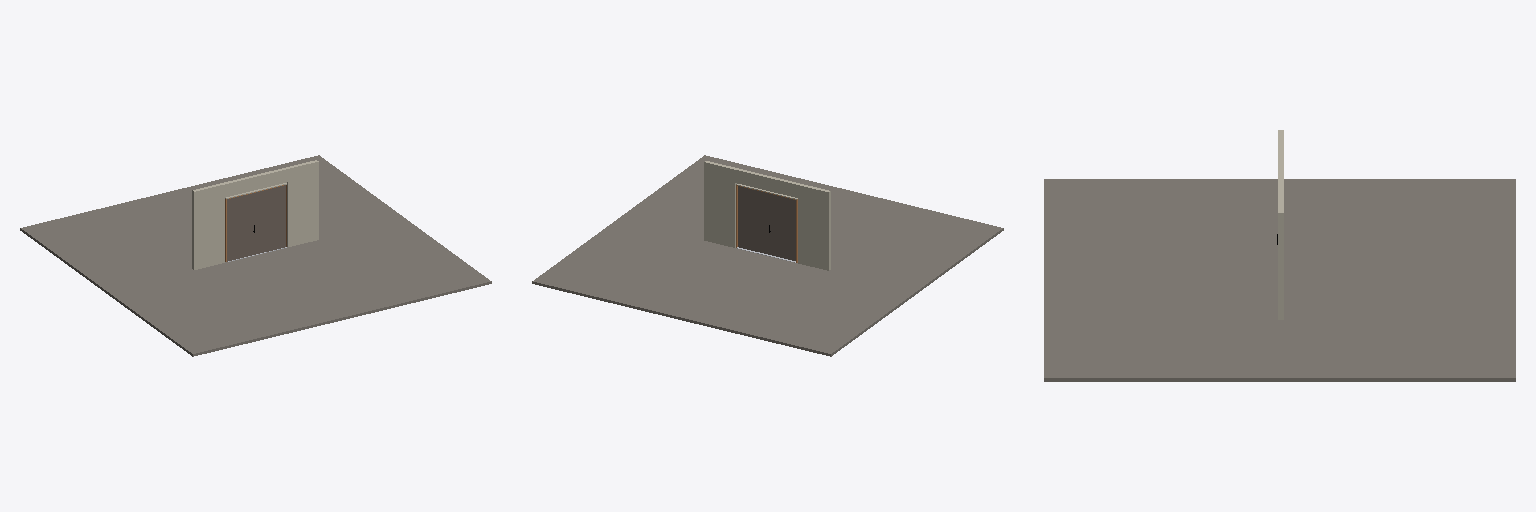
The robot description file, URDF, robot "db0395_swing_double_minimal":
<?xml version="1.0" ?>
<robot xmlns:doorbench="https://github.com/adamraudonis/DoorBench/schema/urdf-ext" name="db0395_swing_double_minimal">
  <link name="world_env">
    <visual name="floor_vis">
      <origin xyz="0 0 -0.05" rpy="0 0 0"/>
      <geometry>
        <box size="12 12 0.1"/>
      </geometry>
      <material name="mat_floor"/>
    </visual>
    <collision name="floor_col">
      <origin xyz="0 0 -0.05" rpy="0 0 0"/>
      <geometry>
        <box size="12 12 0.1"/>
      </geometry>
    </collision>
    <visual name="wall_left_vis">
      <origin xyz="-1.88225 0.0305 1.5065" rpy="0 0 0"/>
      <geometry>
        <box size="1.2355 0.145 3.013"/>
      </geometry>
      <material name="mat_wall"/>
    </visual>
    <collision name="wall_left_col">
      <origin xyz="-1.88225 0.0305 1.5065" rpy="0 0 0"/>
      <geometry>
        <box size="1.2355 0.145 3.013"/>
      </geometry>
    </collision>
    <visual name="wall_right_vis">
      <origin xyz="1.88225 0.0305 1.5065" rpy="0 0 0"/>
      <geometry>
        <box size="1.2355 0.145 3.013"/>
      </geometry>
      <material name="mat_wall"/>
    </visual>
    <collision name="wall_right_col">
      <origin xyz="1.88225 0.0305 1.5065" rpy="0 0 0"/>
      <geometry>
        <box size="1.2355 0.145 3.013"/>
      </geometry>
    </collision>
    <visual name="wall_header_vis">
      <origin xyz="0 0.0305 2.758" rpy="0 0 0"/>
      <geometry>
        <box size="2.529 0.145 0.51"/>
      </geometry>
      <material name="mat_wall"/>
    </visual>
    <collision name="wall_header_col">
      <origin xyz="0 0.0305 2.758" rpy="0 0 0"/>
      <geometry>
        <box size="2.529 0.145 0.51"/>
      </geometry>
    </collision>
    <visual name="jamb_l_vis">
      <origin xyz="-1.214 0.0305 1.2065" rpy="0 0 0"/>
      <geometry>
        <box size="0.019 0.145 2.413"/>
      </geometry>
      <material name="mat_frame"/>
    </visual>
    <collision name="jamb_l_col">
      <origin xyz="-1.214 0.0305 1.2065" rpy="0 0 0"/>
      <geometry>
        <box size="0.019 0.145 2.413"/>
      </geometry>
    </collision>
    <visual name="jamb_r_vis">
      <origin xyz="1.214 0.0305 1.2065" rpy="0 0 0"/>
      <geometry>
        <box size="0.019 0.145 2.413"/>
      </geometry>
      <material name="mat_frame"/>
    </visual>
    <collision name="jamb_r_col">
      <origin xyz="1.214 0.0305 1.2065" rpy="0 0 0"/>
      <geometry>
        <box size="0.019 0.145 2.413"/>
      </geometry>
    </collision>
    <visual name="jamb_head_vis">
      <origin xyz="0 0.0305 2.4225" rpy="0 0 0"/>
      <geometry>
        <box size="2.447 0.145 0.019"/>
      </geometry>
      <material name="mat_frame"/>
    </visual>
    <collision name="jamb_head_col">
      <origin xyz="0 0.0305 2.4225" rpy="0 0 0"/>
      <geometry>
        <box size="2.447 0.145 0.019"/>
      </geometry>
    </collision>
    <visual name="head_stud_vis">
      <origin xyz="0 0.0305 2.447" rpy="0 0 0"/>
      <geometry>
        <box size="2.447 0.145 0.03"/>
      </geometry>
      <material name="mat_wall"/>
    </visual>
    <collision name="head_stud_col">
      <origin xyz="0 0.0305 2.447" rpy="0 0 0"/>
      <geometry>
        <box size="2.447 0.145 0.03"/>
      </geometry>
    </collision>
    <visual name="threshold_vis">
      <origin xyz="0 0.0305 0.0065" rpy="0 0 0"/>
      <geometry>
        <box size="2.447 0.145 0.013"/>
      </geometry>
      <material name="mat_threshold"/>
    </visual>
    <collision name="threshold_col">
      <origin xyz="0 0.0305 0.0065" rpy="0 0 0"/>
      <geometry>
        <box size="2.447 0.145 0.013"/>
      </geometry>
    </collision>
  </link>
  <link name="leaf_a">
    <inertial>
      <origin xyz="0.607914 0.029 1.210394" rpy="0 0 0"/>
      <mass value="62.748227"/>
      <inertia ixx="29.490788967" ixy="0" ixz="0.079649009" iyy="37.128494655" iyz="0" izz="7.665001906"/>
    </inertial>
    <visual name="leaf_a_slab_vis">
      <origin xyz="0.6 0.029 1.213" rpy="0 0 0"/>
      <geometry>
        <box size="1.2 0.044 2.392"/>
      </geometry>
      <material name="mat_leaf_a"/>
    </visual>
    <collision name="leaf_a_slab_col">
      <origin xyz="0.6 0.029 1.213" rpy="0 0 0"/>
      <geometry>
        <box size="1.2 0.044 2.392"/>
      </geometry>
    </collision>
    <visual name="leaf_a_pull_n_vis">
      <origin xyz="1.095 0.007 1.05" rpy="1.570796 0 0"/>
      <geometry>
        <mesh filename="../../hardware/pull_2b47e55ff8.obj"/>
      </geometry>
      <material name="mat_op_black_matte_metal"/>
    </visual>
    <collision name="leaf_a_pull_col_n_col">
      <origin xyz="1.095 -0.038 1.05" rpy="0 0 0"/>
      <geometry>
        <cylinder radius="0.006" length="0.26"/>
      </geometry>
    </collision>
    <visual name="leaf_a_pull_p_vis">
      <origin xyz="1.095 0.051 1.05" rpy="-1.570796 0 0"/>
      <geometry>
        <mesh filename="../../hardware/pull_2b47e55ff8.obj"/>
      </geometry>
      <material name="mat_op_black_matte_metal"/>
    </visual>
    <collision name="leaf_a_pull_col_p_col">
      <origin xyz="1.095 0.096 1.05" rpy="0 0 0"/>
      <geometry>
        <cylinder radius="0.006" length="0.26"/>
      </geometry>
    </collision>
  </link>
  <link name="leaf_b">
    <inertial>
      <origin xyz="-0.6 0.029 1.213" rpy="0 0 0"/>
      <mass value="62.602973"/>
      <inertia ixx="29.859531248" ixy="0" ixz="0" iyy="37.361788034" iyz="0" izz="7.522456679"/>
    </inertial>
    <visual name="leaf_b_slab_vis">
      <origin xyz="-0.6 0.029 1.213" rpy="0 0 0"/>
      <geometry>
        <box size="1.2 0.044 2.392"/>
      </geometry>
      <material name="mat_leaf_b"/>
    </visual>
    <collision name="leaf_b_slab_col">
      <origin xyz="-0.6 0.029 1.213" rpy="0 0 0"/>
      <geometry>
        <box size="1.2 0.044 2.392"/>
      </geometry>
    </collision>
  </link>
  <joint name="leaf_a_hinge" type="revolute">
    <origin xyz="-1.2015 -0.029 0" rpy="0 0 0"/>
    <parent link="world_env"/>
    <child link="leaf_a"/>
    <axis xyz="0 0 -1"/>
    <limit lower="0" upper="1.396263" effort="2000" velocity="10"/>
    <dynamics damping="0.948781" friction="28.985632"/>
    <doorbench:closer damping_closing="0" damping_opening="0" backcheck_angle="0" backcheck_damping="0"/>
  </joint>
  <joint name="leaf_b_hinge" type="revolute">
    <origin xyz="1.2015 -0.029 0" rpy="0 0 0"/>
    <parent link="world_env"/>
    <child link="leaf_b"/>
    <axis xyz="0 0 1"/>
    <limit lower="0" upper="0.001" effort="2000" velocity="10"/>
    <dynamics damping="0.948781" friction="28.985632"/>
    <doorbench:closer damping_closing="0" damping_opening="0" backcheck_angle="0" backcheck_damping="0"/>
    <doorbench:note text="inactive leaf held by flush bolts; set range to free it"/>
  </joint>
  <material name="mat_floor">
    <color rgba="0.55 0.53 0.5 1"/>
  </material>
  <material name="mat_frame">
    <color rgba="0.75 0.55 0.38 1"/>
  </material>
  <material name="mat_leaf_a">
    <color rgba="0.5 0.46 0.425 1"/>
  </material>
  <material name="mat_leaf_b">
    <color rgba="0.5 0.46 0.425 1"/>
  </material>
  <material name="mat_op_black_matte_metal">
    <color rgba="0.05 0.05 0.05 1"/>
  </material>
  <material name="mat_threshold">
    <color rgba="0.8 0.81 0.83 1"/>
  </material>
  <material name="mat_wall">
    <color rgba="0.78 0.76 0.7 1"/>
  </material>
</robot>

--- Facts derived from the render (not from the file) ---
Views: 3 orthographic renders of the robot side by side, from view 1: azimuth 30°, elevation 25°; view 2: azimuth 150°, elevation 25°; view 3: azimuth 270°, elevation 25°.
Robot: db0395_swing_double_minimal — 3 links, 2 joints (2 revolute); root link world_env; default pose: all joints at 0.
Links seen in each view (by area): view 1: world_env, leaf_b, leaf_a; view 2: world_env, leaf_b, leaf_a; view 3: world_env.
Link boxes in pixels (x1=…): world_env: x1=20, y1=155, x2=491, y2=356; leaf_b: x1=256, y1=185, x2=285, y2=253; leaf_a: x1=227, y1=193, x2=255, y2=261; world_env: x1=532, y1=155, x2=1003, y2=356; leaf_b: x1=738, y1=186, x2=767, y2=253; leaf_a: x1=768, y1=193, x2=795, y2=260; world_env: x1=1044, y1=130, x2=1515, y2=381.
Size in the robot's own frame: 12 by 12 by 3.11 metres.
Meshes: 1 distinct files referenced, 2 mesh visuals loaded (1 OBJ).
